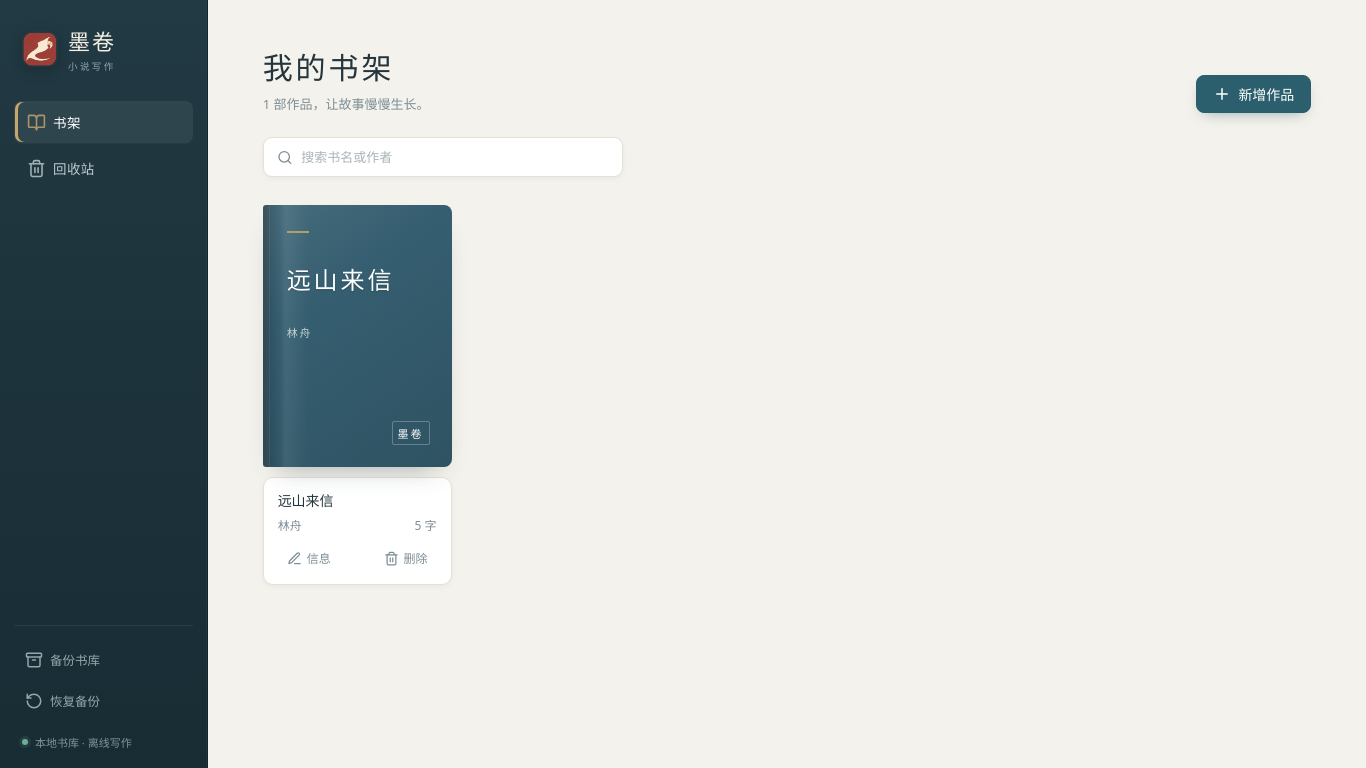
Test case: writing workspace › keeps unsaved manuscript and prevents leaving on write failure
Click the button with aria-label "打开 远山来信": x=357, y=336 [263,205,452,467]
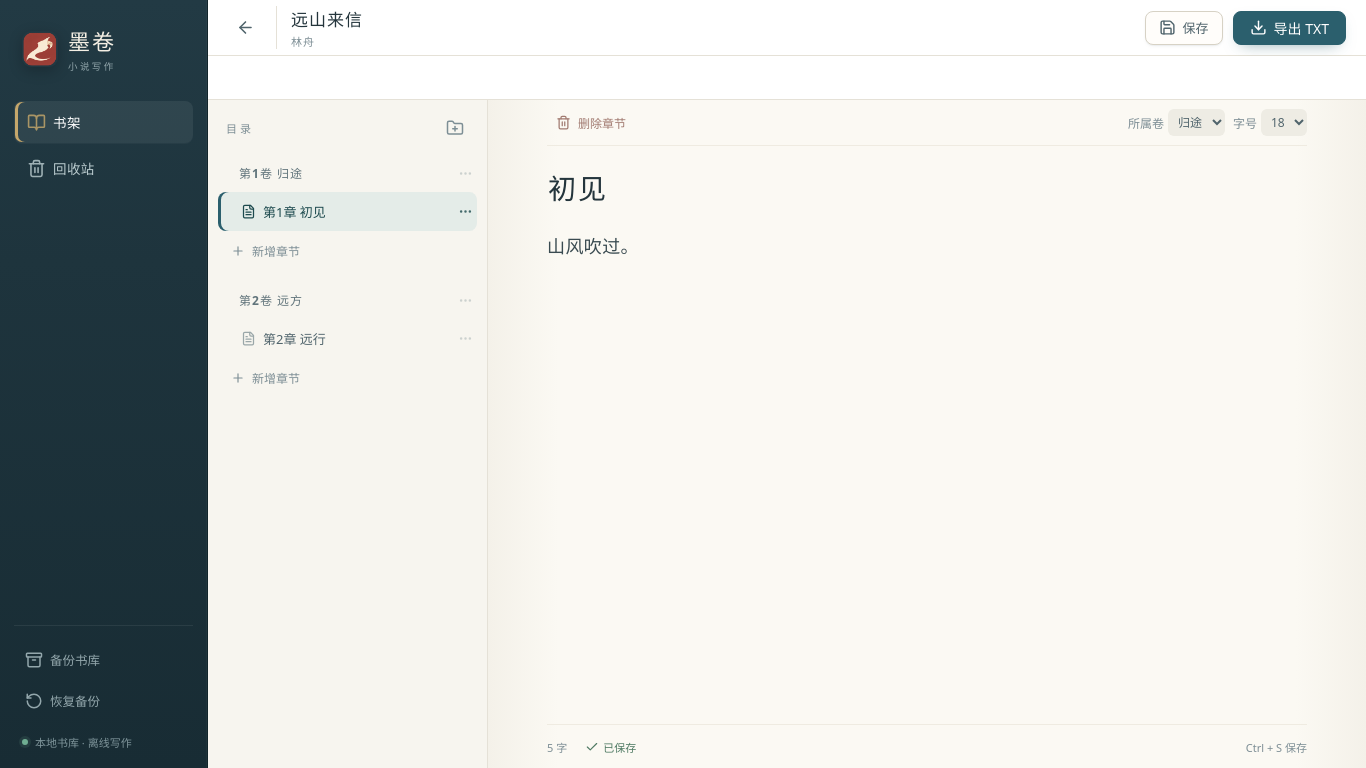
Replace the text in the text box named "章节正文" with "不能丢": x=927, y=472 [547,220,1307,724]
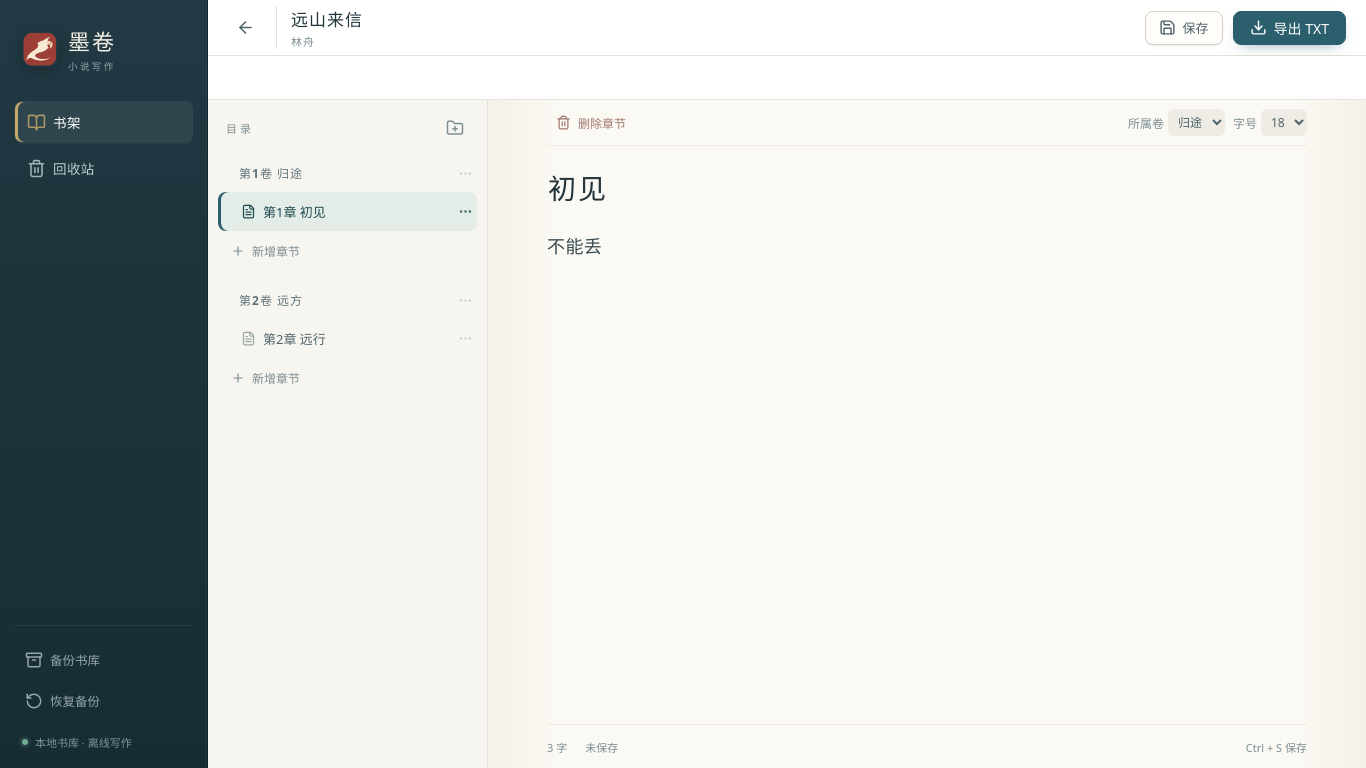
Click the button named "返回书架": x=245, y=28 [228,10,262,44]
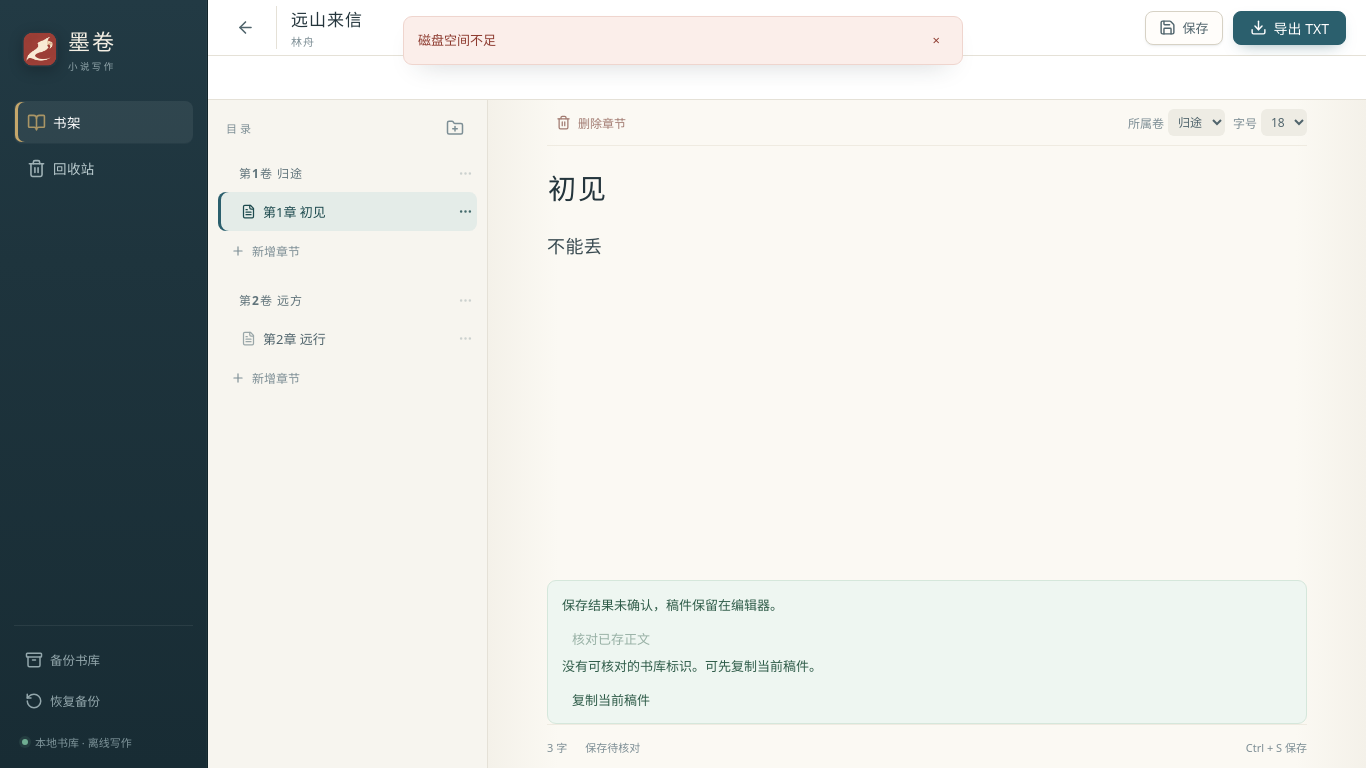
Expected: the message shows "磁盘空间不足", [418,31,496,49]
